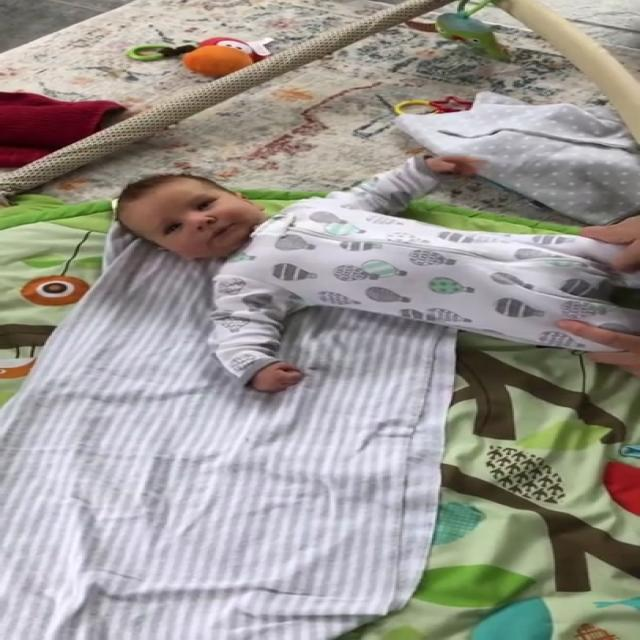baby: (107, 151, 640, 400)
